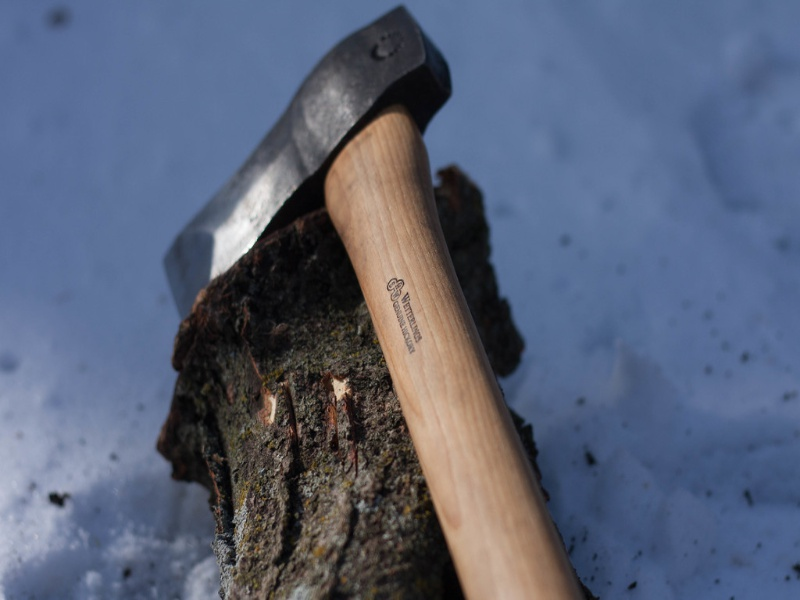axe: (157, 2, 460, 445)
